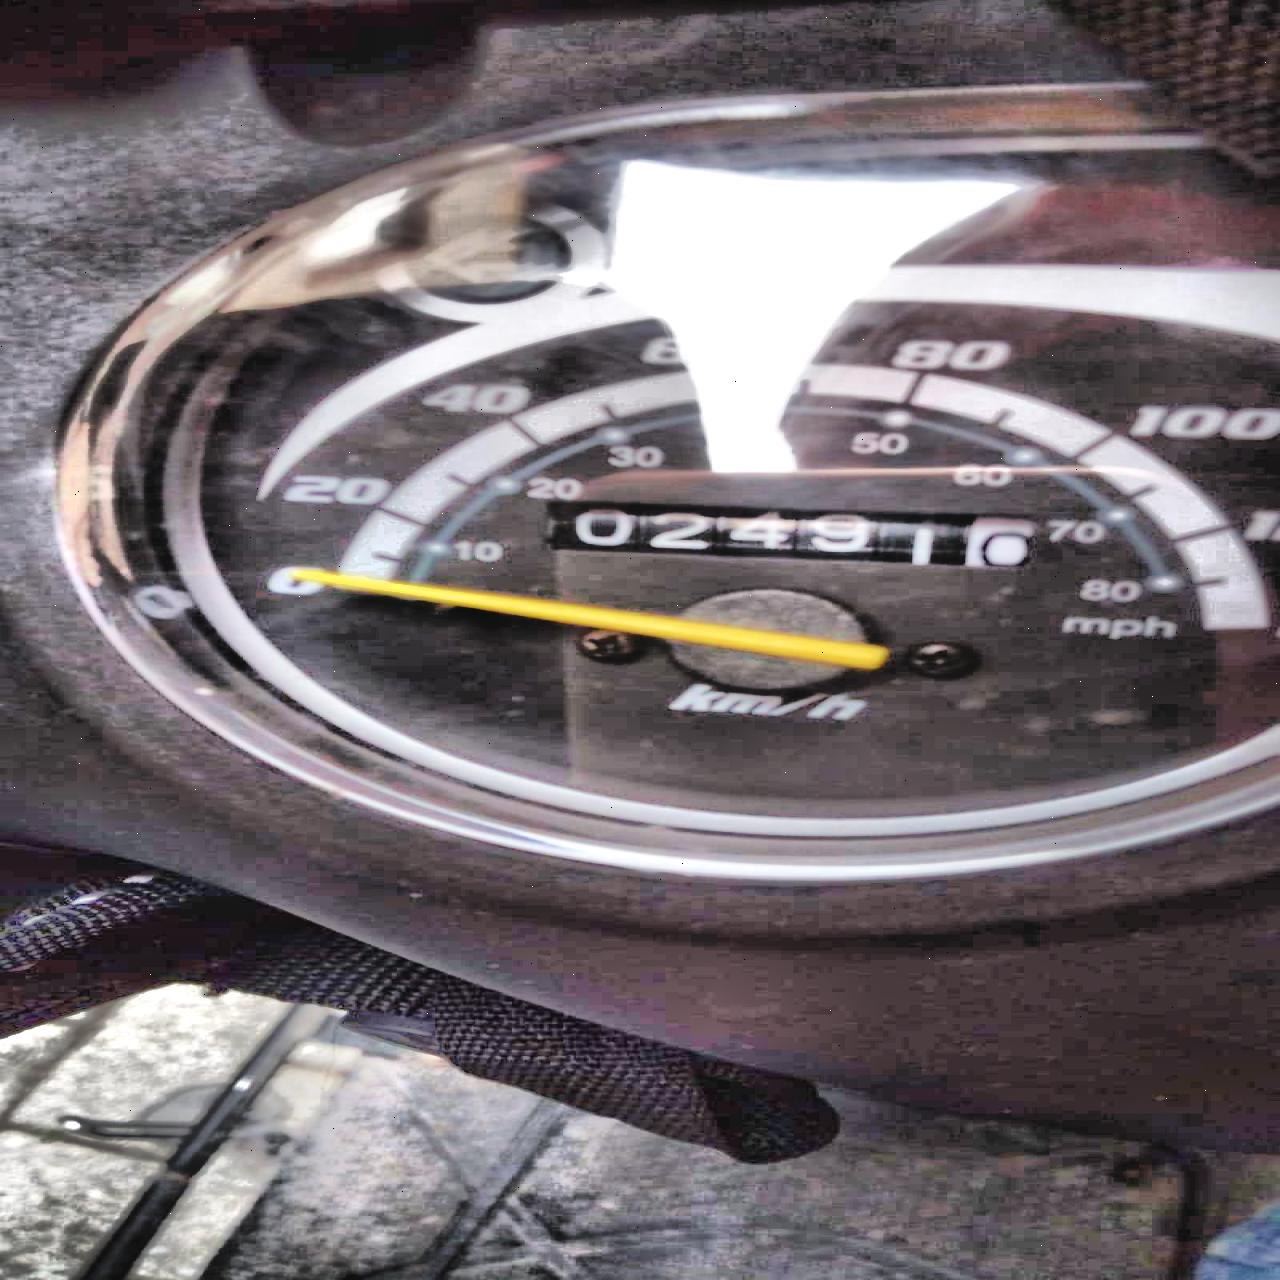0: (973, 527, 1034, 567), (573, 509, 631, 546)
1: (903, 524, 938, 566)
2: (645, 511, 712, 550)
4: (727, 509, 789, 550)
9: (806, 511, 869, 551)
odometer: (535, 496, 1043, 568)
